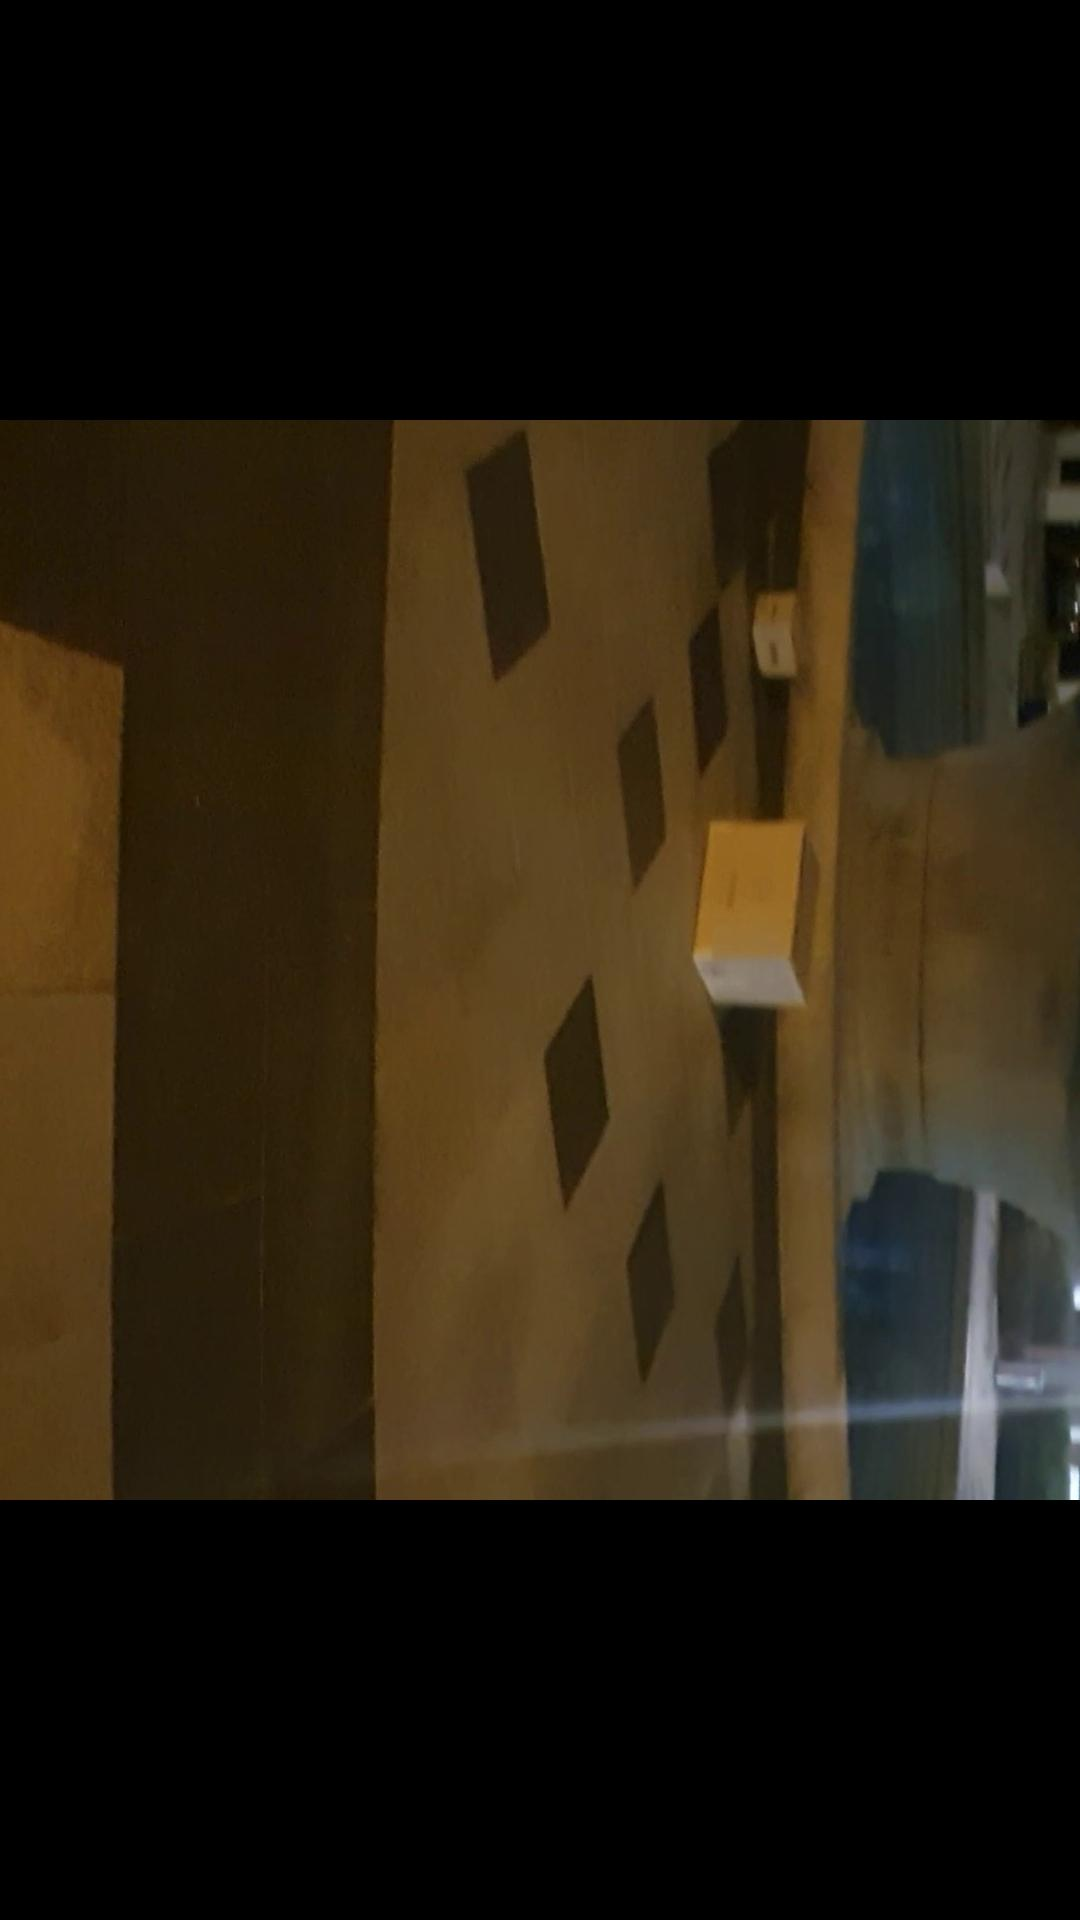Box: (687, 806, 818, 1018), (745, 583, 815, 687)
